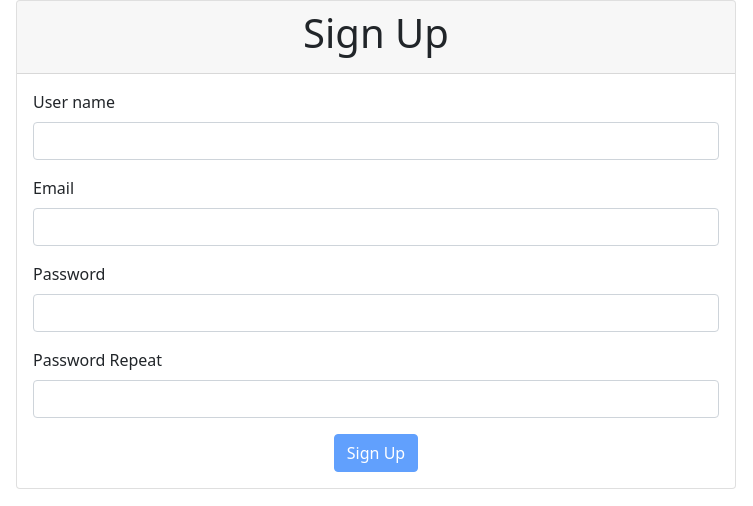
Sign Up Page › Interactions › displays button spinner after clicking submit
In the field labelled "User name": x=376, y=141 [33,122,719,160], type "username"
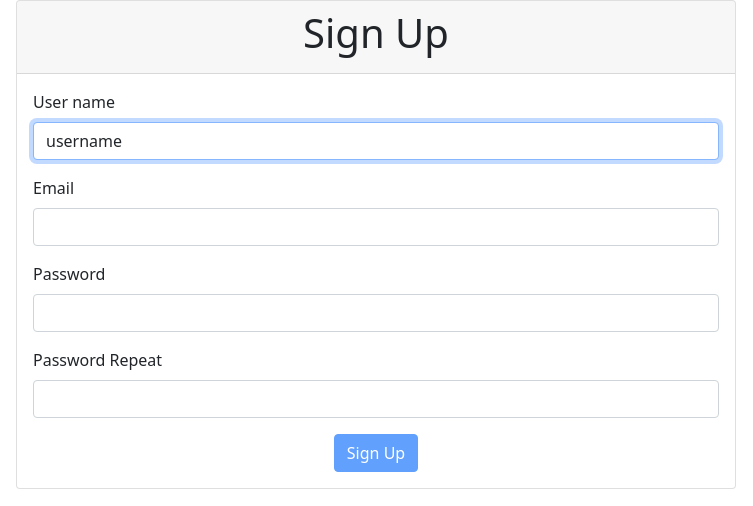
In the field labelled "Email": x=376, y=227 [33,208,719,246], type "email@email.com"
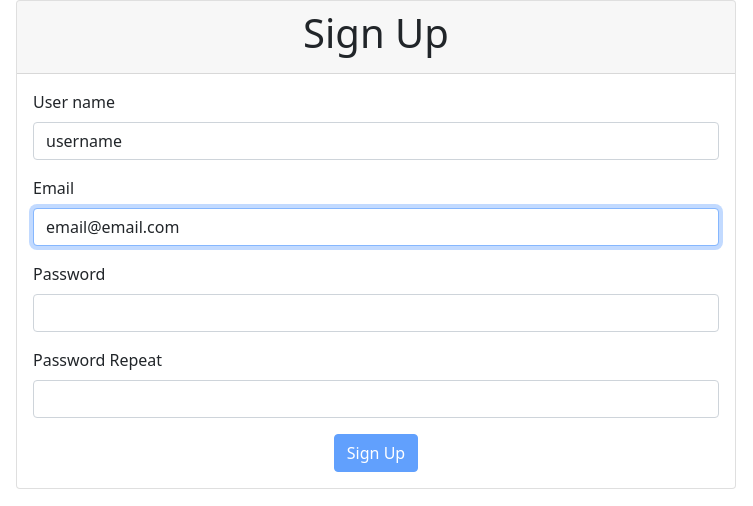
In the password field labelled "Password": x=376, y=313 [33,294,719,332], type "password"
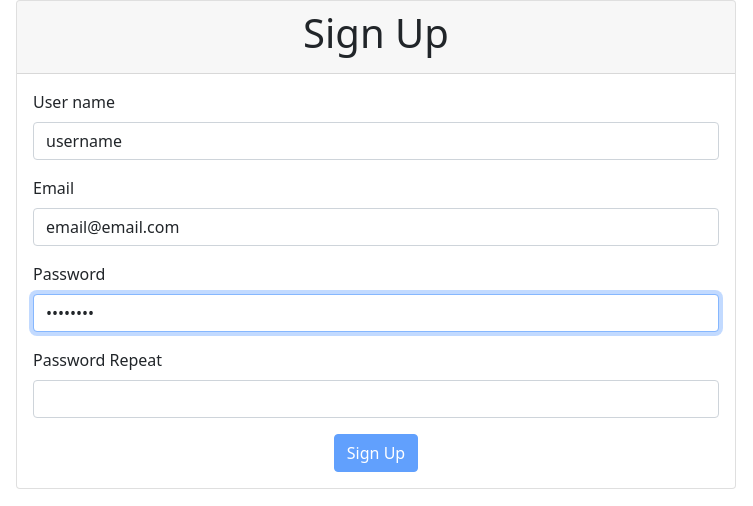
In the password field labelled "Password Repeat": x=376, y=399 [33,380,719,418], type "password"
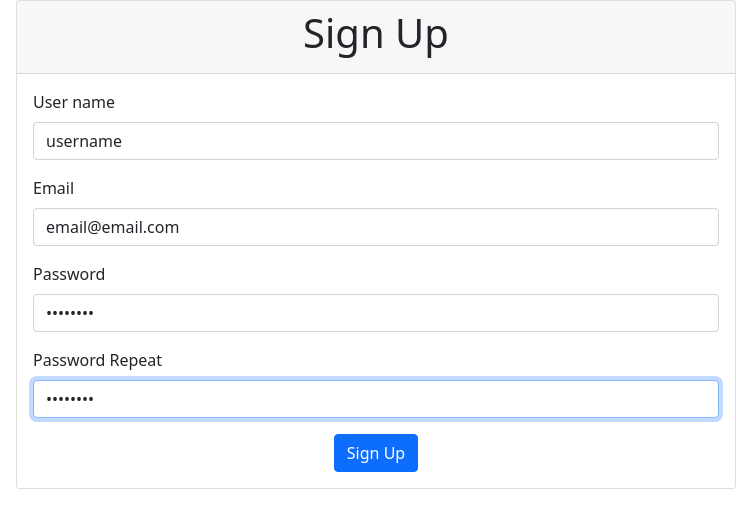
Click the button "Sign Up": x=376, y=453 [334,434,418,472]
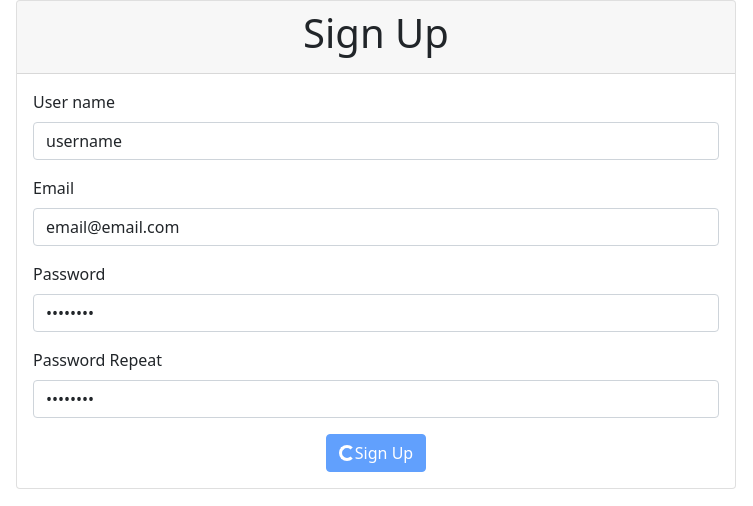
Expected: the message is shown, [339,445,355,461]
